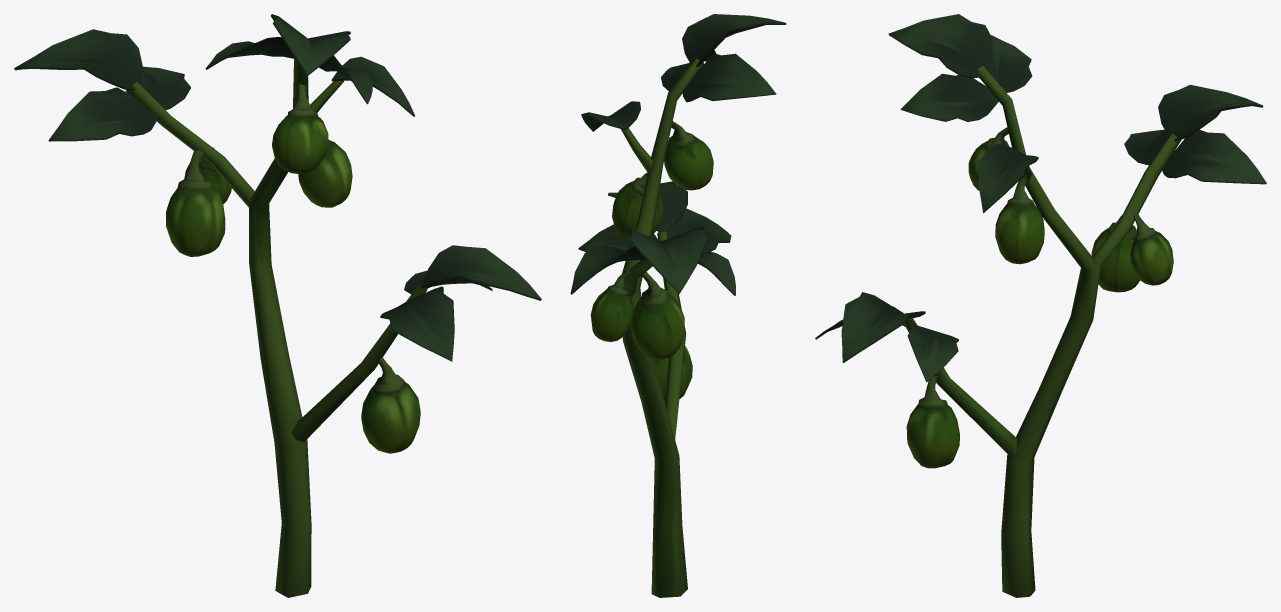
File: Jiló inteiro.fbx
3 renders of one model, left to right at view 1: azimuth 30°, elevation 25°; view 2: azimuth 150°, elevation 25°; view 3: azimuth 270°, elevation 25°, orthographic. The views are drawn at different scales.
Parts seen in each view (by area): view 1: jiló9:Group24360, jiló Inteiro, jiló1A2:Group4155, jiló1A2:Group54420, jiló1A2:Group30767, jiló8:Group10401, jiló7:Group10401, jiló1A2:Group52756; view 2: jiló9:Group24360, jiló Inteiro, jiló1A2:Group4155, jiló1A2:Group30767, jiló1A2:Group52715, jiló1A2:Group52756, jiló7:Group10401, jiló8:Group10401, jiló1A2:Group54420; view 3: jiló9:Group24360, jiló Inteiro, jiló1A2:Group54420, jiló1A2:Group52756, jiló1A2:Group52715, jiló8:Group10401, jiló1A2:Group4155, jiló7:Group10401, jiló1A2:Group30767.
Part boxes in pixels (x1,y1,x2,y2): jiló9:Group24360: [14, 14, 541, 361]; jiló Inteiro: [249, 59, 311, 597]; jiló1A2:Group4155: [166, 149, 225, 256]; jiló1A2:Group54420: [361, 357, 420, 453]; jiló1A2:Group30767: [272, 84, 328, 174]; jiló8:Group10401: [125, 80, 343, 207]; jiló7:Group10401: [291, 284, 427, 442]; jiló1A2:Group52756: [298, 139, 352, 207]; jiló9:Group24360: [570, 14, 786, 295]; jiló Inteiro: [622, 58, 703, 597]; jiló1A2:Group4155: [631, 272, 684, 359]; jiló1A2:Group30767: [664, 121, 713, 190]; jiló1A2:Group52715: [590, 270, 632, 341]; jiló1A2:Group52756: [612, 172, 663, 239]; jiló7:Group10401: [657, 231, 686, 439]; jiló8:Group10401: [621, 128, 662, 298]; jiló1A2:Group54420: [653, 346, 692, 402]; jiló9:Group24360: [815, 14, 1266, 382]; jiló Inteiro: [976, 66, 1100, 597]; jiló1A2:Group54420: [906, 375, 959, 468]; jiló1A2:Group52756: [995, 178, 1044, 264]; jiló1A2:Group52715: [1130, 213, 1173, 285]; jiló8:Group10401: [1023, 133, 1181, 266]; jiló1A2:Group4155: [1091, 215, 1139, 292]; jiló7:Group10401: [904, 318, 1017, 458]; jiló1A2:Group30767: [968, 127, 1009, 190].
Bounding box in the file's own units: 38.07 × 70.79 × 52.36.
2 materials, 2 textured.
